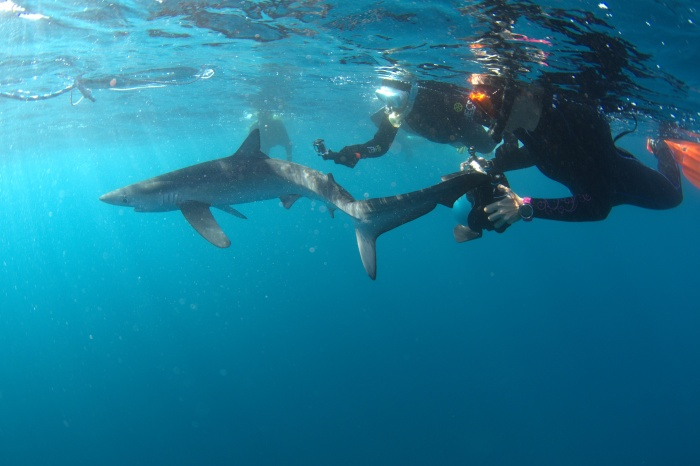Azul: (70, 108, 484, 301)
